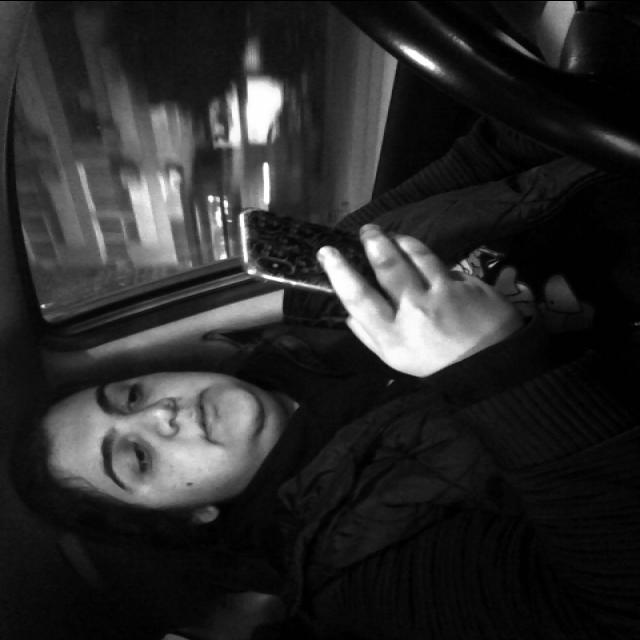mobile use: (228, 205, 446, 297)
